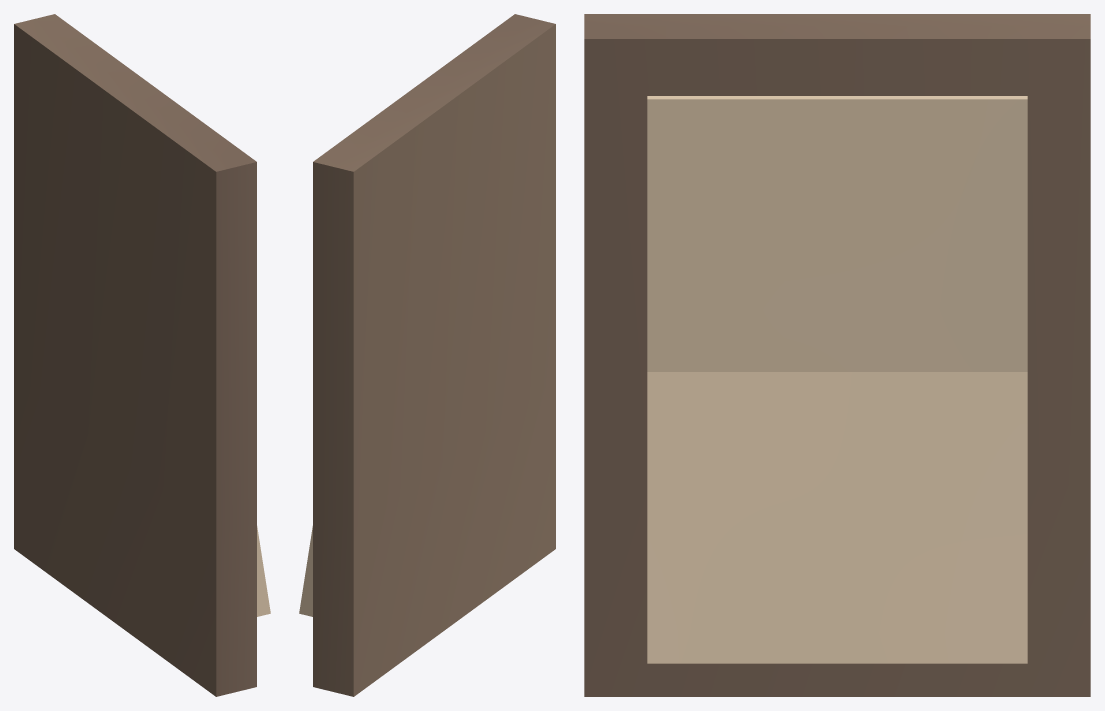
Rendered from LightSwitch.fbx.
3 renders of one model, left to right at view 1: azimuth 30°, elevation 25°; view 2: azimuth 150°, elevation 25°; view 3: azimuth 270°, elevation 25°, orthographic. The views are drawn at different scales.
Visible parts, largest first — view 1: LightSwitch; view 2: LightSwitch; view 3: LightSwitch.
Part boxes in pixels (x1,y1,x2,y2): LightSwitch: [14, 14, 270, 696]; LightSwitch: [299, 14, 555, 696]; LightSwitch: [584, 14, 1090, 696].
Bounding box in the file's own units: 12.16 × 76.43 × 53.32.
